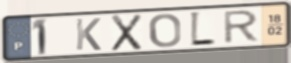1: (30, 17, 49, 57)
K: (74, 17, 103, 52)
L: (189, 10, 218, 49)
O: (147, 12, 183, 49)
R: (222, 8, 262, 45)
X: (110, 12, 144, 53)
